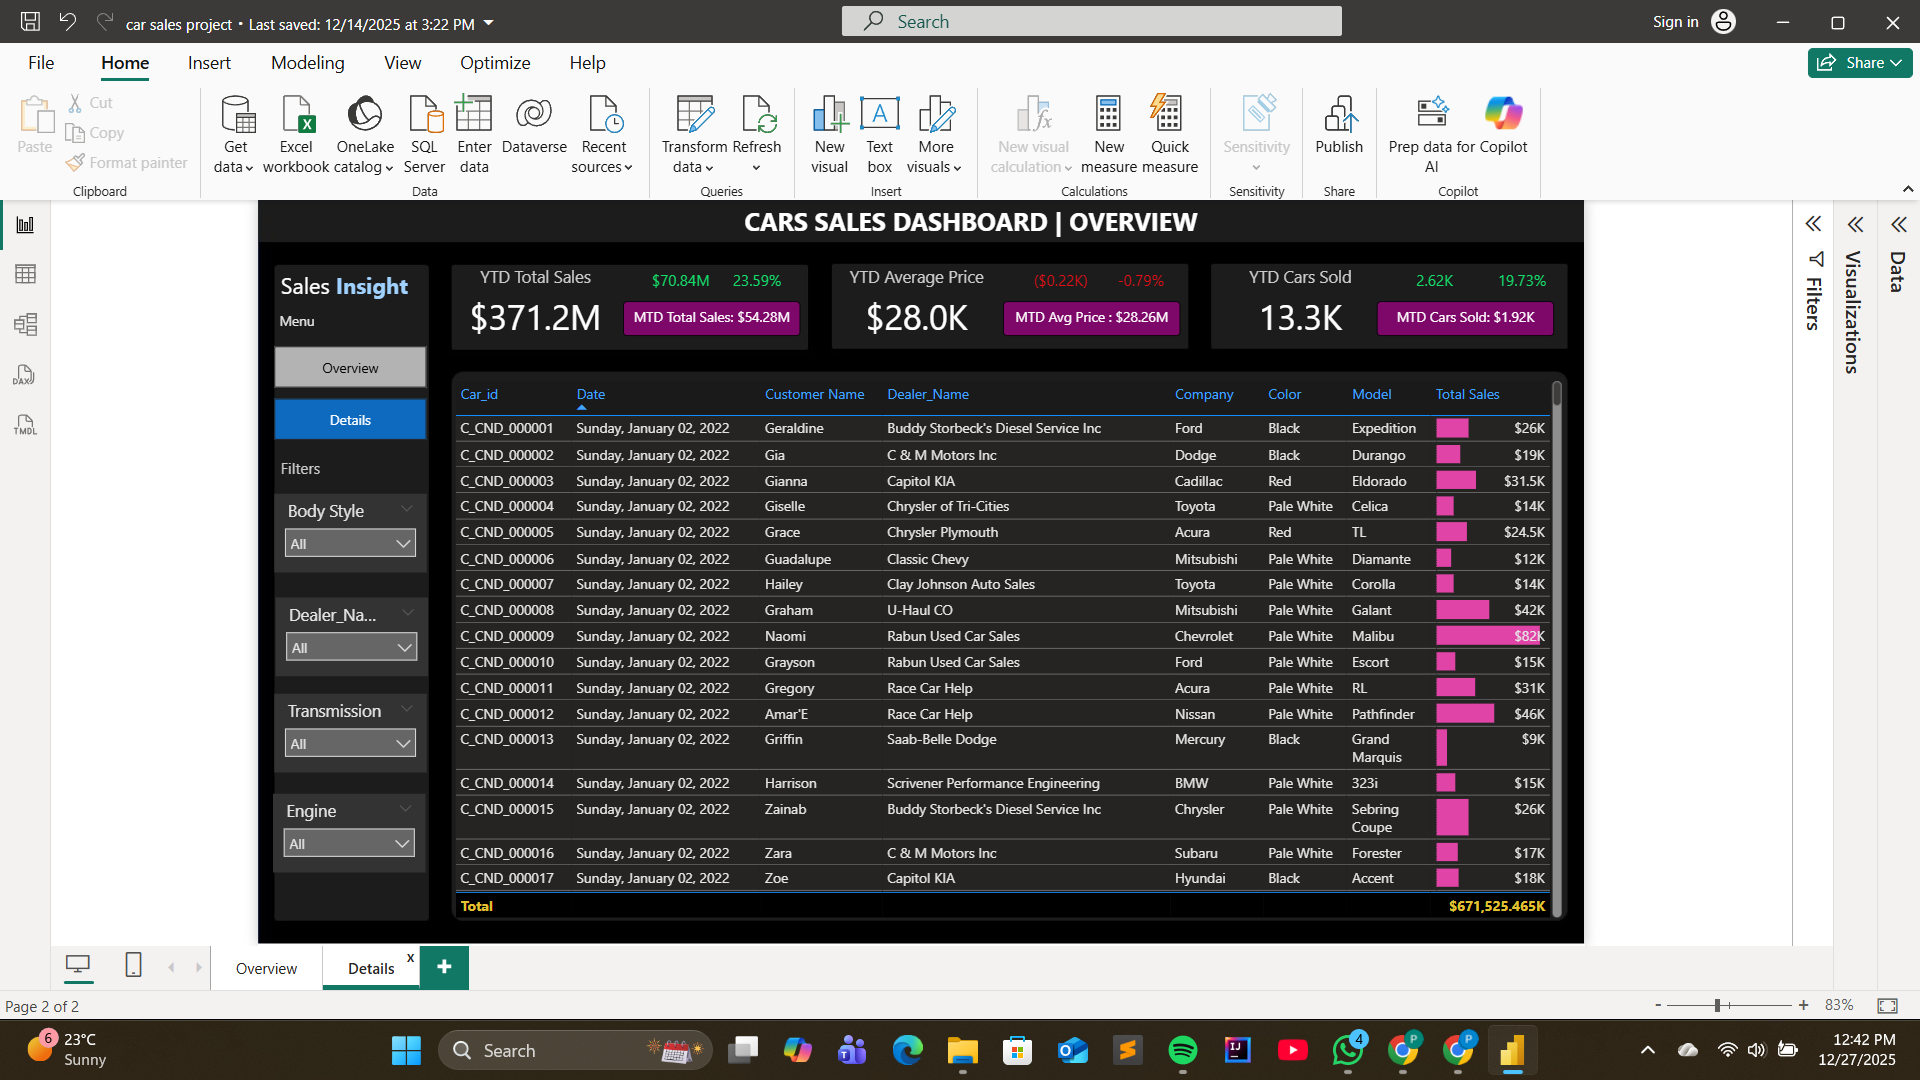

The dashboard page shown, as its layout file describes it:
{"tool":"powerbi","page":{"name":"Details","canvas":[1280,720],"ordinal":1},"visuals":[{"type":"card","title":"YTD Total Sales","fields":{"Values":["car_data.Year To Date"]},"box":[170.1,62.7,195.4,78.4],"z":0},{"type":"card","fields":{"Values":["car_data.difference of sales"]},"box":[352.3,62.7,112.2,35],"z":1000},{"type":"card","fields":{"Values":["car_data.YoY"]},"box":[425.9,62.7,112.2,35],"z":2000},{"type":"card","fields":{"Values":["car_data.MTD KPI"]},"box":[352.3,97.7,171.3,33.8],"z":3000},{"type":"card","title":"YTD Average Price","fields":{"Values":["car_data.YTD Avg Price"]},"box":[538.1,62.7,195.4,78.4],"z":4000},{"type":"card","fields":{"Values":["car_data.Avg price diff"]},"box":[719,62.7,112.2,35],"z":5000},{"type":"card","fields":{"Values":["car_data.YoY Avg Price"]},"box":[796.3,62.7,112.2,35],"z":6000},{"type":"card","fields":{"Values":["car_data.MTD Avg price KPI"]},"box":[719,97.7,171.3,33.8],"z":7000},{"type":"card","title":"YTD Cars Sold","fields":{"Values":["car_data.YTD Cars Sold"]},"box":[908.4,62.7,195.4,78.4],"z":8000},{"type":"card","fields":{"Values":["car_data.Cars Sold Diff"]},"box":[1079.8,62.7,112.2,35],"z":9000},{"type":"card","fields":{"Values":["car_data.YoY Car Sold Growth"]},"box":[1164.2,62.7,112.2,35],"z":10000},{"type":"card","fields":{"Values":["car_data.MTD Cars Sold KPI"]},"box":[1079.8,97.7,171.3,33.8],"z":11000},{"type":"textbox","box":[464.5,0,469.3,49.5],"z":17000},{"type":"slicer","fields":{"Values":["car_data.Body Style"]},"box":[15.7,283.5,147.2,76],"z":18000},{"type":"slicer","fields":{"Values":["car_data.Dealer_Name"]},"box":[16.9,383.6,147.2,76],"z":19000},{"type":"slicer","fields":{"Values":["car_data.Transmission"]},"box":[15.7,476.5,147.2,76],"z":20000},{"type":"slicer","fields":{"Values":["car_data.Engine"]},"box":[14.5,573.1,147.2,76],"z":21000},{"type":"textbox","box":[16.9,243.7,149.6,39.8],"z":22000},{"type":"tableEx","fields":{"Values":["car_data.Car_id","car_data.Date","car_data.Customer Name","car_data.Dealer_Name","car_data.Company","car_data.Color","car_data.Model","Sum(car_data.Price ($))"]},"box":[184.6,170.1,1078.6,527.2],"z":22001},{"type":"textbox","box":[16.9,62.7,149.6,39.8],"z":22002},{"type":"textbox","box":[15.7,102.5,59.1,31.4],"z":22003},{"type":"pageNavigator","box":[15.7,141.2,147.2,91.7],"z":22004}]}

Visuals, with their boxes on the page's 1280x720 design canvas (x1, y1, x2, y2). These are canvas units, not pixel positions in the 1920x1080 screenshot, which may show the page scaled, cropped or inside an application window:
"YTD Total Sales" card: 170/63/366/141
card - car_data.difference of sales: 352/63/464/98
card - car_data.YoY: 426/63/538/98
card - car_data.MTD KPI: 352/98/524/132
"YTD Average Price" card: 538/63/734/141
card - car_data.Avg price diff: 719/63/831/98
card - car_data.YoY Avg Price: 796/63/908/98
card - car_data.MTD Avg price KPI: 719/98/890/132
"YTD Cars Sold" card: 908/63/1104/141
card - car_data.Cars Sold Diff: 1080/63/1192/98
card - car_data.YoY Car Sold Growth: 1164/63/1276/98
card - car_data.MTD Cars Sold KPI: 1080/98/1251/132
textbox: 464/0/934/50
slicer - car_data.Body Style: 16/284/163/360
slicer - car_data.Dealer_Name: 17/384/164/460
slicer - car_data.Transmission: 16/476/163/552
slicer - car_data.Engine: 14/573/162/649
textbox: 17/244/166/284
tableEx - car_data.Car_id x car_data.Date: 185/170/1263/697
textbox: 17/63/166/102
textbox: 16/102/75/134
pageNavigator: 16/141/163/233
